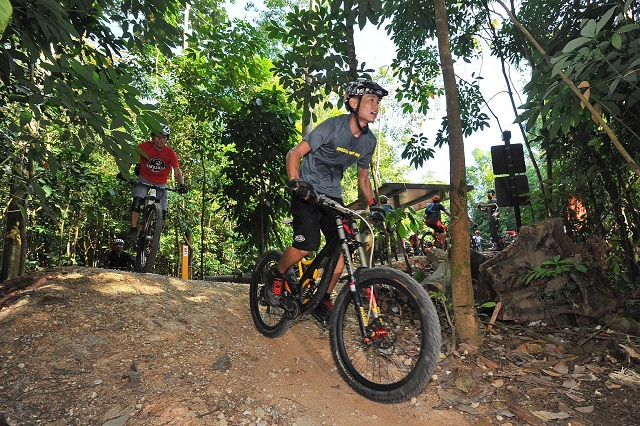bike: (246, 189, 439, 401), (123, 177, 184, 271)
person: (273, 82, 386, 313), (128, 123, 181, 245), (480, 188, 503, 250), (425, 192, 445, 243)
tree: (432, 1, 482, 343)
tree branches: (549, 30, 640, 112)
